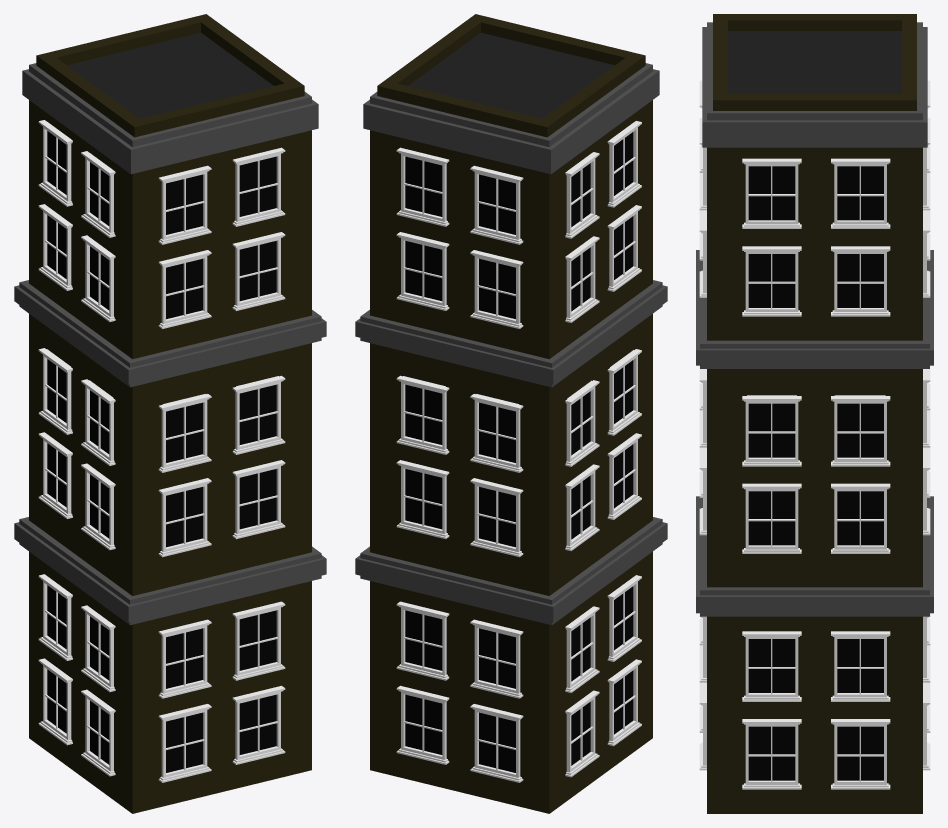
The model's file is building.fbx.
3 views of the same model, side by side, from view 1: azimuth 30°, elevation 25°; view 2: azimuth 150°, elevation 25°; view 3: azimuth 270°, elevation 25° (orthographic). The views are drawn at different scales.
Visible parts, largest first — view 1: Cube; view 2: Cube; view 3: Cube.
Part boxes in pixels (x1,y1,x2,y2): Cube: [14, 14, 326, 813]; Cube: [355, 14, 667, 813]; Cube: [696, 14, 933, 813].
Size of the model in its own units: 3625 by 11960 by 3625.
